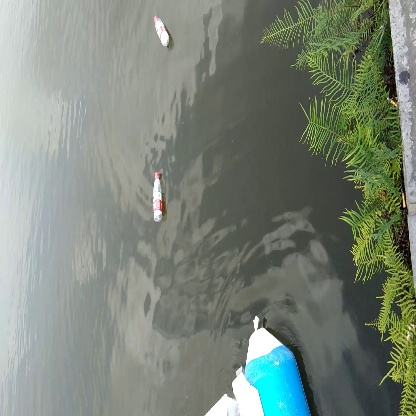bottle: (150, 170, 171, 224), (152, 14, 173, 49)
